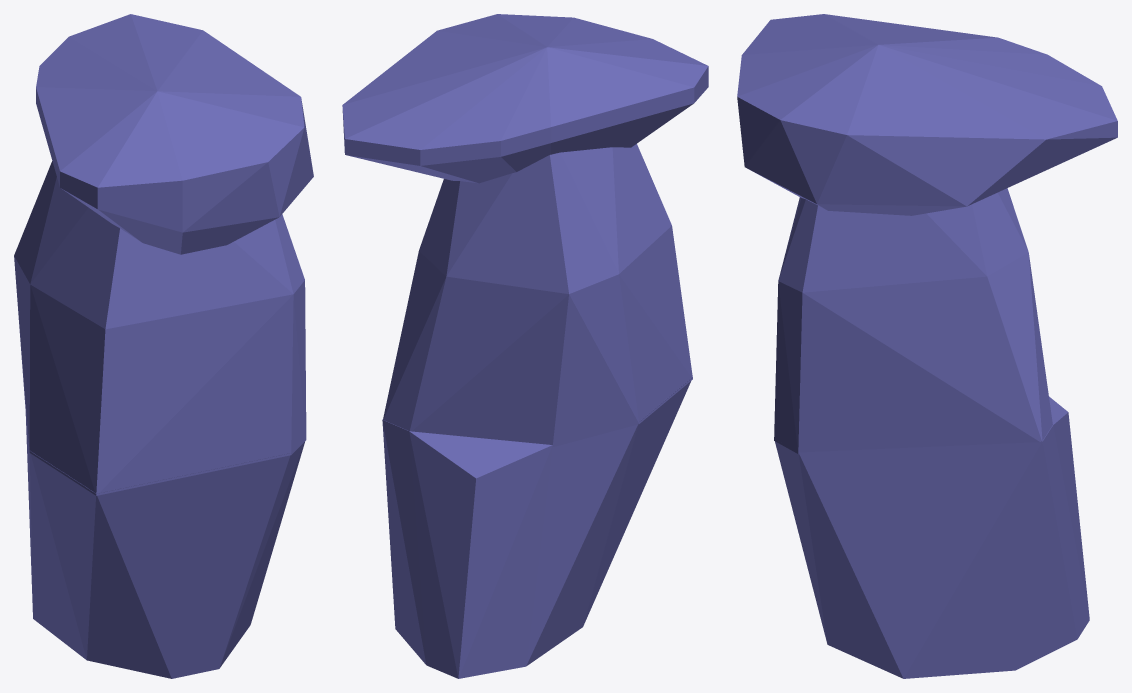
File: Cliff_Spire_07_Collider_01.FBX
The picture shows the model from 3 angles, left to right: view 1: azimuth 30°, elevation 25°; view 2: azimuth 150°, elevation 25°; view 3: azimuth 270°, elevation 25°; orthographic projection. The views are drawn at different scales.
Parts seen in each view (by area): view 1: COLLIDER2, COLLIDER3, COLLIDER1; view 2: COLLIDER2, COLLIDER1, COLLIDER3; view 3: COLLIDER2, COLLIDER1, COLLIDER3.
Part boxes in pixels (x1,y1,x2,y2): COLLIDER2: [14, 161, 306, 495]; COLLIDER3: [36, 14, 313, 254]; COLLIDER1: [25, 412, 304, 678]; COLLIDER2: [383, 144, 692, 446]; COLLIDER1: [382, 377, 692, 678]; COLLIDER3: [342, 14, 708, 183]; COLLIDER2: [774, 188, 1052, 454]; COLLIDER1: [775, 396, 1089, 678]; COLLIDER3: [737, 14, 1117, 215].
Bounding box in the file's own units: 195 × 395 × 235.
